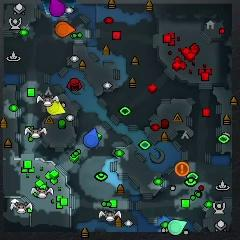Other: (175, 162, 190, 177)
p1: (84, 128, 99, 148)
p2: (168, 220, 187, 235)
p3: (50, 0, 65, 17)
p4: (46, 100, 66, 115)
p5: (56, 22, 75, 37)
